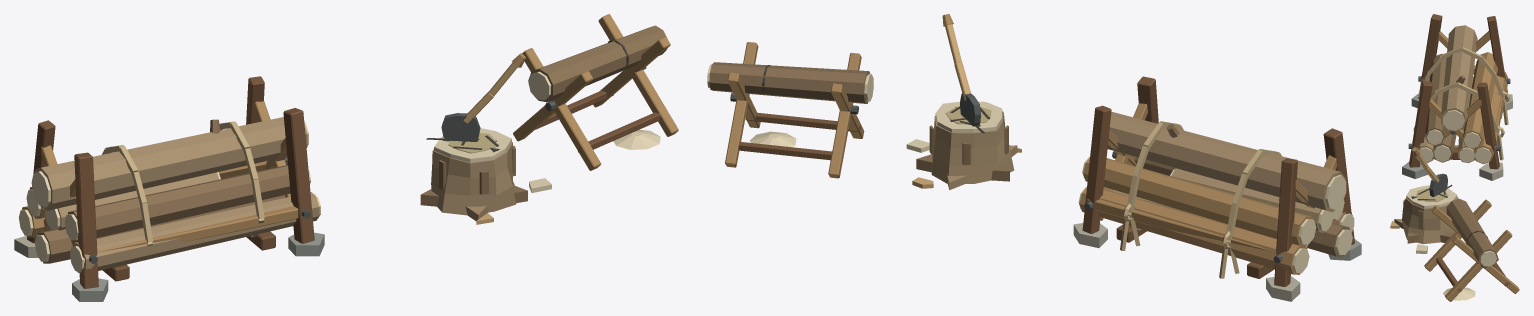
The model's file is workyard_exterior_u3_v1.glb.
3 renders of one model, left to right at view 1: azimuth 30°, elevation 25°; view 2: azimuth 150°, elevation 25°; view 3: azimuth 270°, elevation 25°, orthographic. The views are drawn at different scales.
Parts seen in each view (by area): view 1: LogStackRuntimeMesh, TimberLogRackRuntimeMesh, SawbuckRuntimeMesh, ChoppingBlockRuntimeMesh, RopeRestraintsRuntimeMesh, EmbeddedAxeRuntimeMesh; view 2: LogStackRuntimeMesh, SawbuckRuntimeMesh, TimberLogRackRuntimeMesh, ChoppingBlockRuntimeMesh, RopeRestraintsRuntimeMesh, EmbeddedAxeRuntimeMesh; view 3: LogStackRuntimeMesh, TimberLogRackRuntimeMesh, SawbuckRuntimeMesh, ChoppingBlockRuntimeMesh, RopeRestraintsRuntimeMesh, EmbeddedAxeRuntimeMesh.
Part boxes in pixels (x1,y1,x2,y2): LogStackRuntimeMesh: [19, 117, 320, 272]; TimberLogRackRuntimeMesh: [14, 76, 324, 301]; SawbuckRuntimeMesh: [513, 14, 678, 170]; ChoppingBlockRuntimeMesh: [420, 128, 551, 224]; RopeRestraintsRuntimeMesh: [102, 121, 264, 245]; EmbeddedAxeRuntimeMesh: [426, 53, 525, 141]; LogStackRuntimeMesh: [1078, 111, 1354, 274]; SawbuckRuntimeMesh: [707, 42, 873, 178]; TimberLogRackRuntimeMesh: [1073, 76, 1361, 301]; ChoppingBlockRuntimeMesh: [906, 101, 1021, 190]; RopeRestraintsRuntimeMesh: [1120, 121, 1281, 278]; EmbeddedAxeRuntimeMesh: [942, 14, 984, 133]; LogStackRuntimeMesh: [1415, 25, 1508, 164]; TimberLogRackRuntimeMesh: [1402, 14, 1512, 180]; SawbuckRuntimeMesh: [1424, 198, 1519, 301]; ChoppingBlockRuntimeMesh: [1390, 185, 1458, 253]; RopeRestraintsRuntimeMesh: [1413, 47, 1509, 160]; EmbeddedAxeRuntimeMesh: [1412, 147, 1452, 201].
Bounding box in the file's own units: 8.02 × 1.73 × 2.08.
